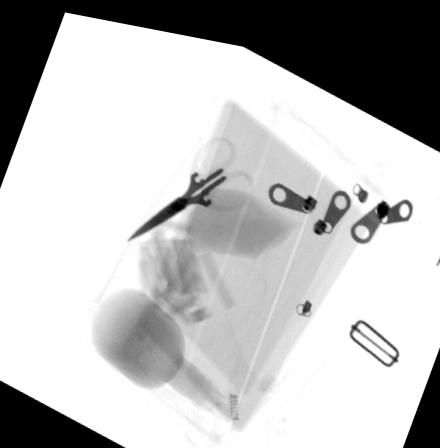Scissors: (127, 128, 255, 235)
